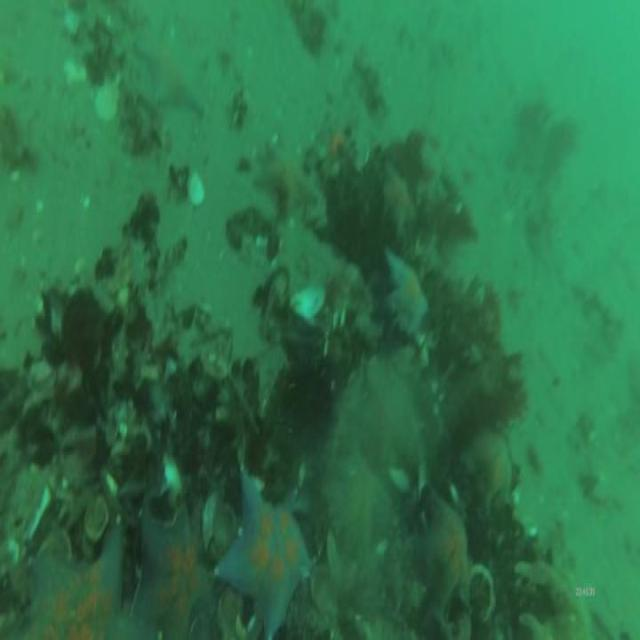holothurian: (272, 212, 364, 319)
starfish: (210, 460, 314, 640), (10, 505, 137, 640), (133, 502, 219, 640), (130, 22, 214, 120), (423, 484, 477, 621), (253, 125, 327, 221), (457, 418, 514, 518), (382, 245, 430, 338)
